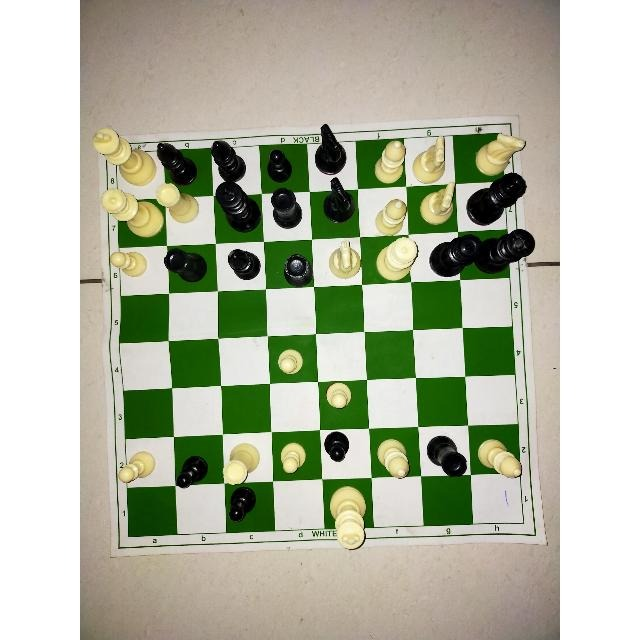black-bishop: (203, 133, 253, 185), (151, 134, 199, 186), (212, 147, 251, 180), (223, 249, 258, 285), (165, 153, 194, 181)
black-king: (473, 229, 541, 279), (211, 179, 263, 236), (214, 196, 260, 233), (482, 235, 510, 279)
black-knight: (305, 117, 352, 181), (313, 176, 360, 232), (313, 195, 359, 239), (309, 147, 355, 176)
black-pawn: (230, 489, 272, 525), (179, 441, 213, 485), (324, 437, 356, 468), (267, 147, 296, 178)
black-queen: (460, 172, 531, 228), (426, 230, 482, 277), (420, 237, 463, 279), (459, 187, 506, 221)
black-rook: (421, 428, 471, 478), (161, 242, 214, 286), (266, 197, 312, 243), (267, 185, 310, 230), (170, 246, 211, 282), (271, 248, 313, 283)
white-bishop: (471, 430, 525, 483), (373, 427, 415, 487), (363, 136, 410, 189), (479, 428, 527, 476), (372, 433, 419, 474), (359, 141, 404, 182), (370, 195, 412, 238), (366, 193, 408, 234)
white-king: (84, 122, 161, 187), (323, 481, 377, 559), (326, 483, 370, 530), (116, 154, 153, 182)
white-knight: (460, 129, 536, 181), (414, 177, 462, 235), (412, 134, 458, 186), (461, 137, 509, 173), (420, 194, 461, 232), (414, 139, 454, 175), (320, 247, 360, 281)
white-pawn: (114, 443, 158, 491), (269, 337, 316, 380), (320, 385, 369, 425), (112, 245, 156, 287), (278, 433, 314, 479), (128, 444, 168, 483), (322, 375, 361, 415), (122, 251, 155, 286)
white-queen: (96, 184, 164, 244), (372, 234, 416, 287), (118, 203, 166, 245), (370, 243, 411, 283)
white-rook: (219, 436, 266, 493), (150, 180, 202, 228), (170, 202, 212, 246), (225, 439, 267, 481)
